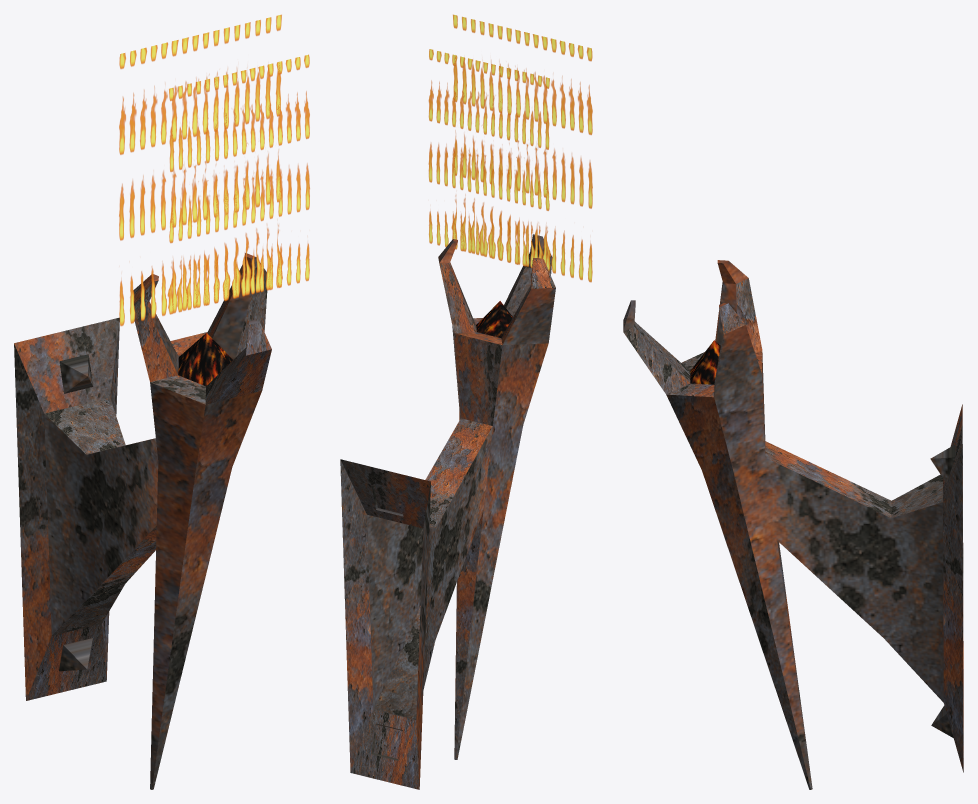
Rendered from mm9_deco_sconcetorch.glb.
3 renders of one model, left to right at view 1: azimuth 30°, elevation 25°; view 2: azimuth 150°, elevation 25°; view 3: azimuth 270°, elevation 25°, orthographic. The views are drawn at different scales.
Parts seen in each view (by area): view 1: Sconcetorch; view 2: Sconcetorch; view 3: Sconcetorch.
Boxes of the visible parts, left/top/right/bottom form: Sconcetorch: left=14, top=14, right=309, bottom=789; Sconcetorch: left=340, top=14, right=592, bottom=789; Sconcetorch: left=623, top=260, right=963, bottom=789.
Size of the model in its own units: 0.35 by 1.38 by 0.5817.
Materials: 2 (2 with a texture image).
